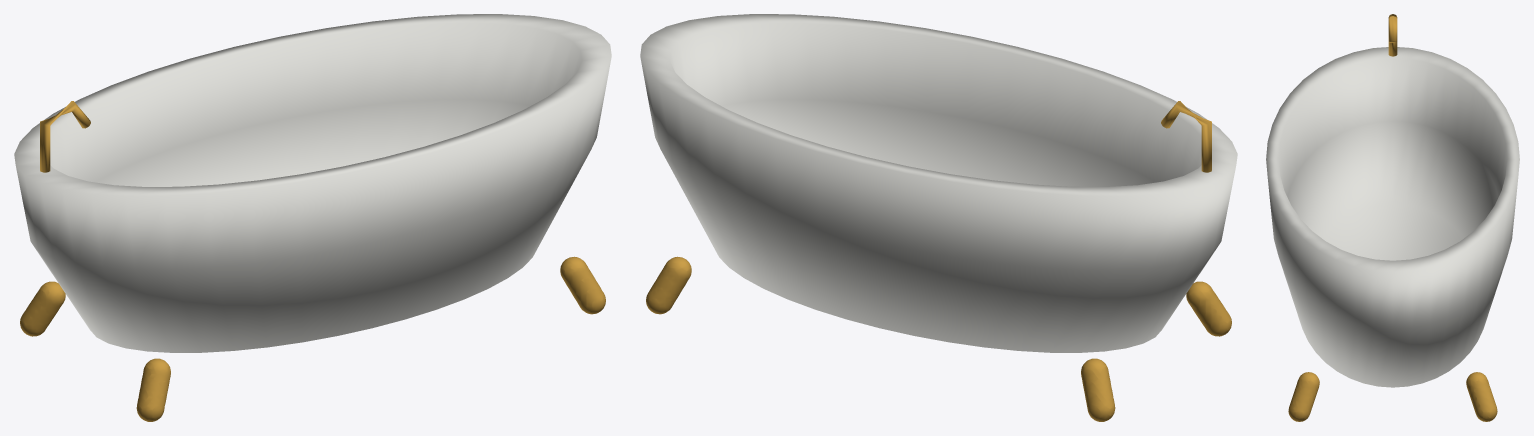
The model's file is bathtub.glb.
The picture shows the model from 3 angles, left to right: view 1: azimuth 30°, elevation 25°; view 2: azimuth 150°, elevation 25°; view 3: azimuth 270°, elevation 25°; orthographic projection. The views are drawn at different scales.
Parts seen in each view (by area): view 1: bathtub; view 2: bathtub; view 3: bathtub.
Part boxes in pixels (bbox=[...]): bathtub: bbox=[14, 14, 611, 421]; bathtub: bbox=[640, 14, 1237, 421]; bathtub: bbox=[1266, 14, 1519, 421].
Size of the model in its own units: 1.68 by 0.7834 by 0.8.
